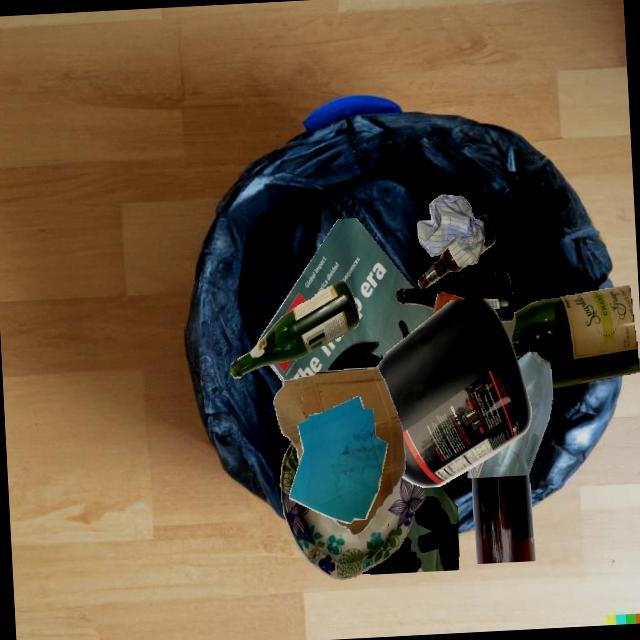cardboard: (273, 367, 406, 535), (280, 442, 425, 580)
glass: (501, 285, 640, 388), (230, 280, 359, 378), (468, 352, 553, 478), (396, 271, 514, 322), (472, 474, 535, 564), (419, 248, 467, 288), (477, 214, 496, 255)
paper: (257, 218, 434, 381), (289, 396, 388, 523), (360, 486, 459, 574), (417, 195, 485, 266)
plastic: (377, 298, 532, 487), (433, 292, 465, 315)
